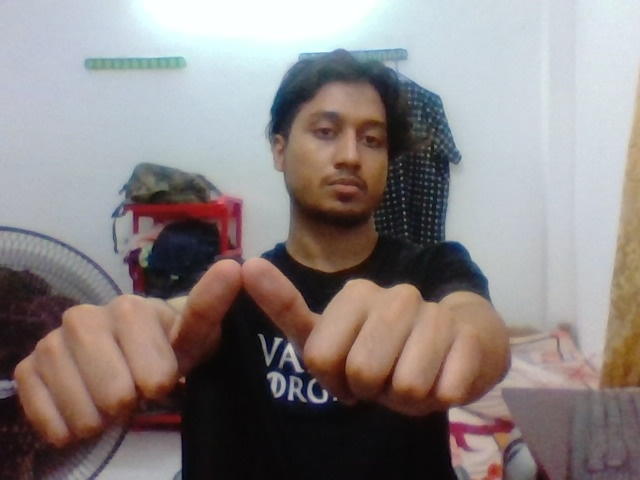A: (15, 213, 498, 447)
